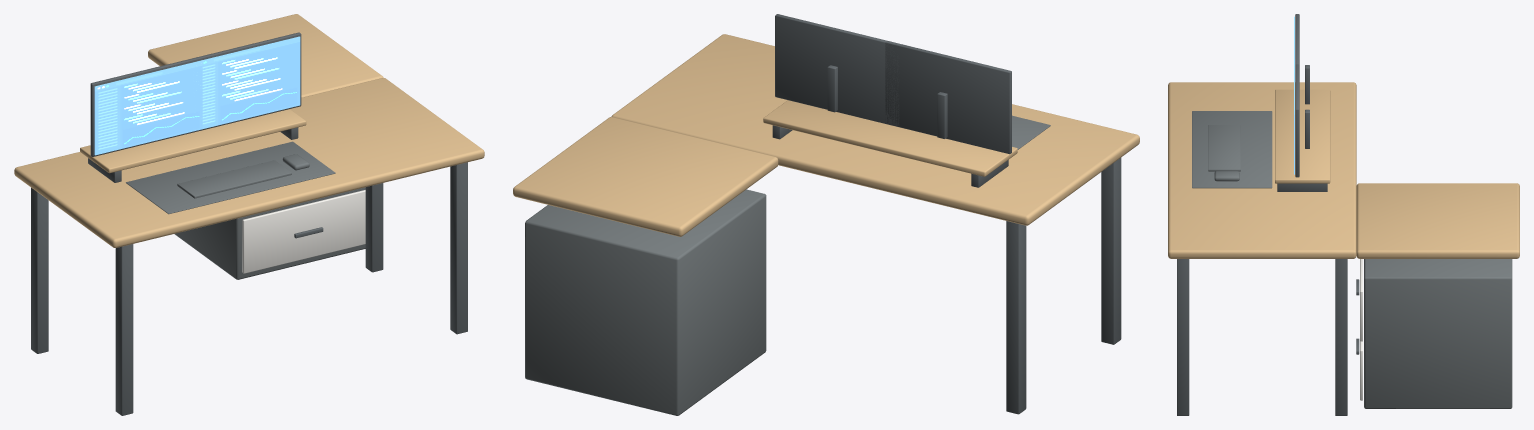
Rendered from workstation.desk-l-shape.glb.
3 renders of one model, left to right at view 1: azimuth 30°, elevation 25°; view 2: azimuth 150°, elevation 25°; view 3: azimuth 270°, elevation 25°, orthographic. The views are drawn at different scales.
Visible parts, largest first — view 1: workstation.desk-l-shape; view 2: workstation.desk-l-shape; view 3: workstation.desk-l-shape.
Part boxes in pixels (<box>): workstation.desk-l-shape: <box>14,14,484,415</box>; workstation.desk-l-shape: <box>513,14,1139,415</box>; workstation.desk-l-shape: <box>1168,14,1519,415</box>.
Size of the model in its own units: 1.6 by 1.14 by 1.4.
5 materials, 1 textured.
